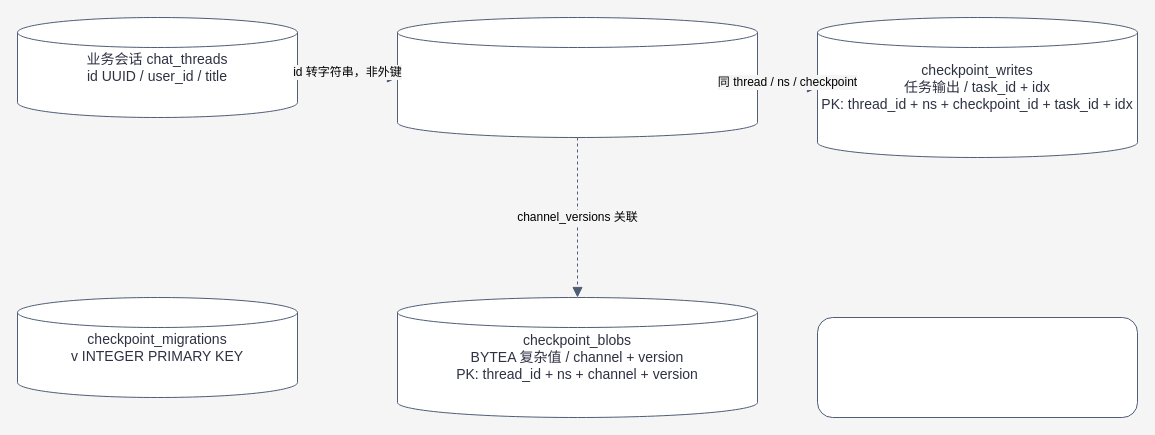
Image size: 1155x435. Some labels were removed from this diagram. The shapes that lost their labels are listed below. From the top down, each one's centre as x and y in pixels, then its label:
pixel 577 77: checkpoints JSONB 骨架 / channel_versions PK: thread_id + ns + checkpoint_id
pixel 977 367: 所有连接仅表示代码中的逻辑关系 迁移没有定义这些外键 ns 是 checkpoint_ns 的缩写
